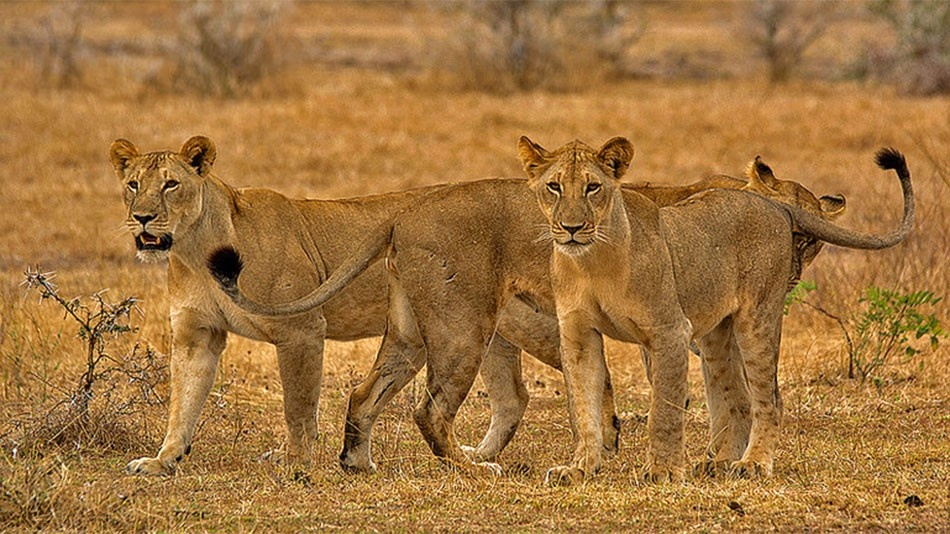lion: (206, 157, 882, 480), (105, 130, 632, 503), (512, 126, 922, 483)
